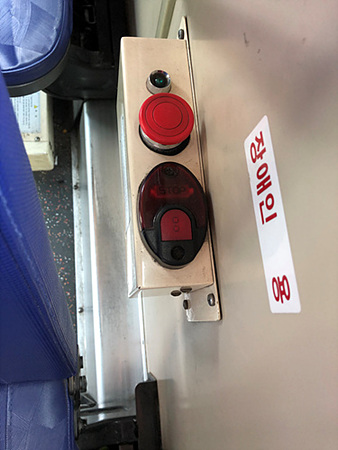bell: (139, 160, 210, 270)
